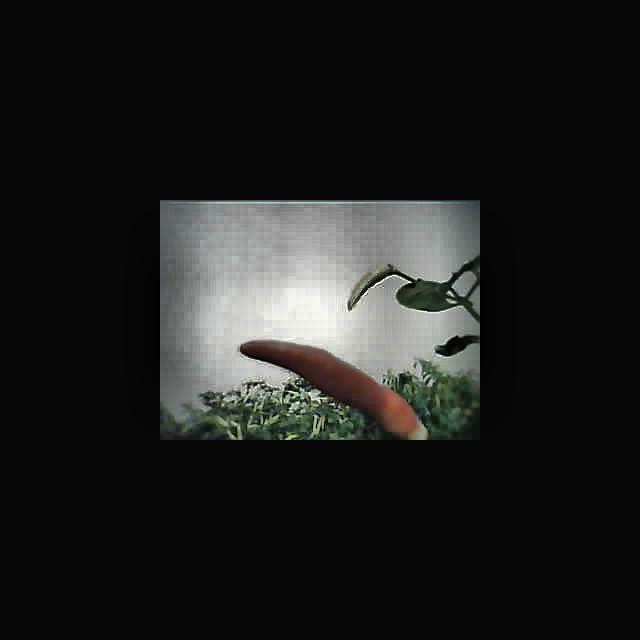Cabai: (235, 332, 427, 440)
